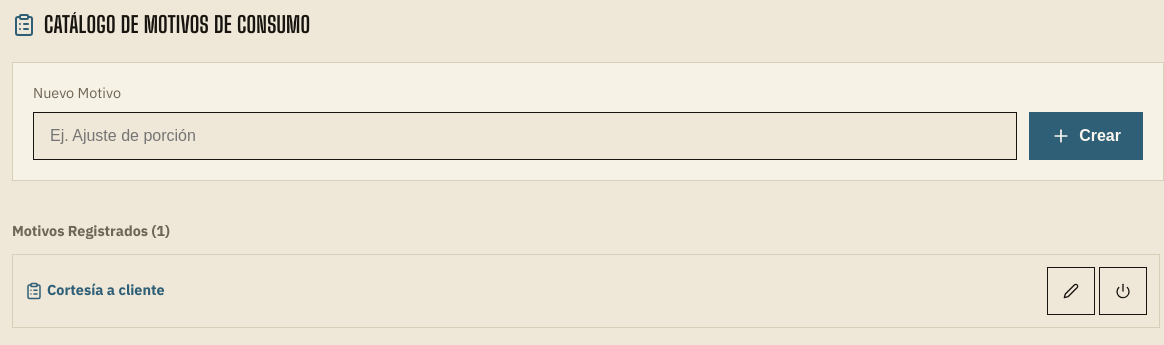
Test case: TK-107-FE: ConsumptionReasonsManagementPanel Component Suite › desactivar un motivo lo marca visualmente inactivo, sin quitarlo de la lista (desactivar, nunca borrar)
Expected: the text "Cortesía a cliente" is shown, [47,280,165,301]
Expected: the text "(Inactivo)" is not shown
What coordinates should you click on to do the following:
click the button named "Desactivar Motivo"
I would click on:
 (1123, 290)
Its box is [1099,266,1147,314].
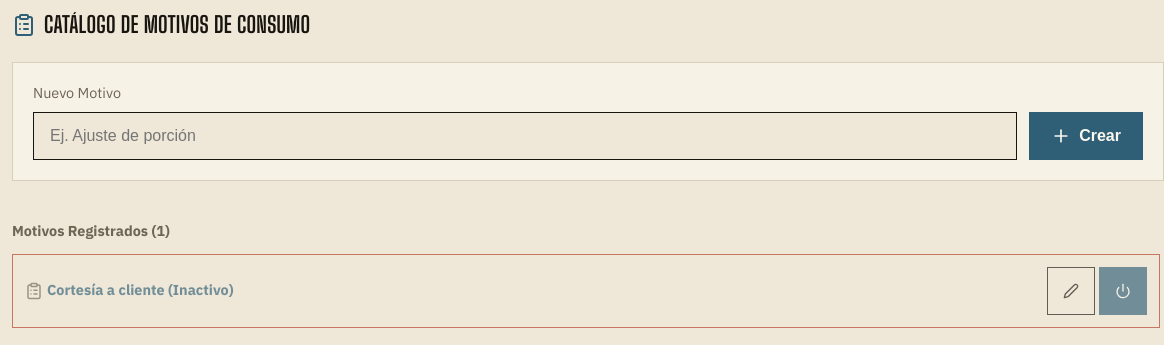
Now the text "Cortesía a cliente (Inactivo)" is shown, box [47,280,234,301]
